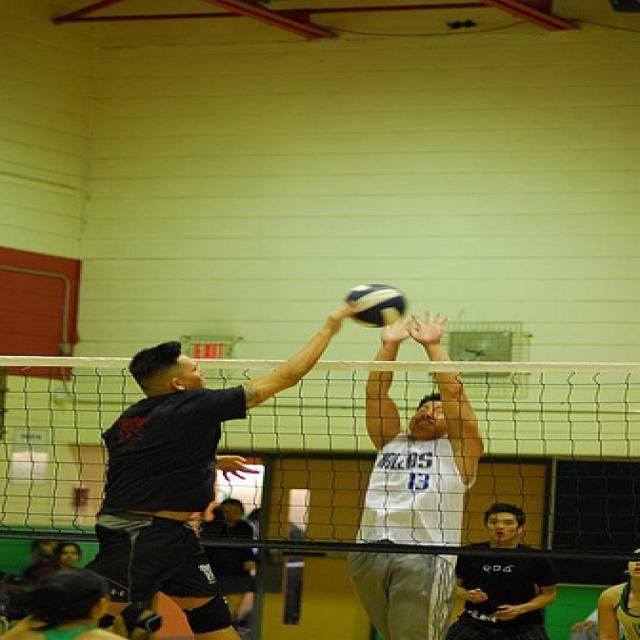volleyball: (346, 284, 408, 328)
